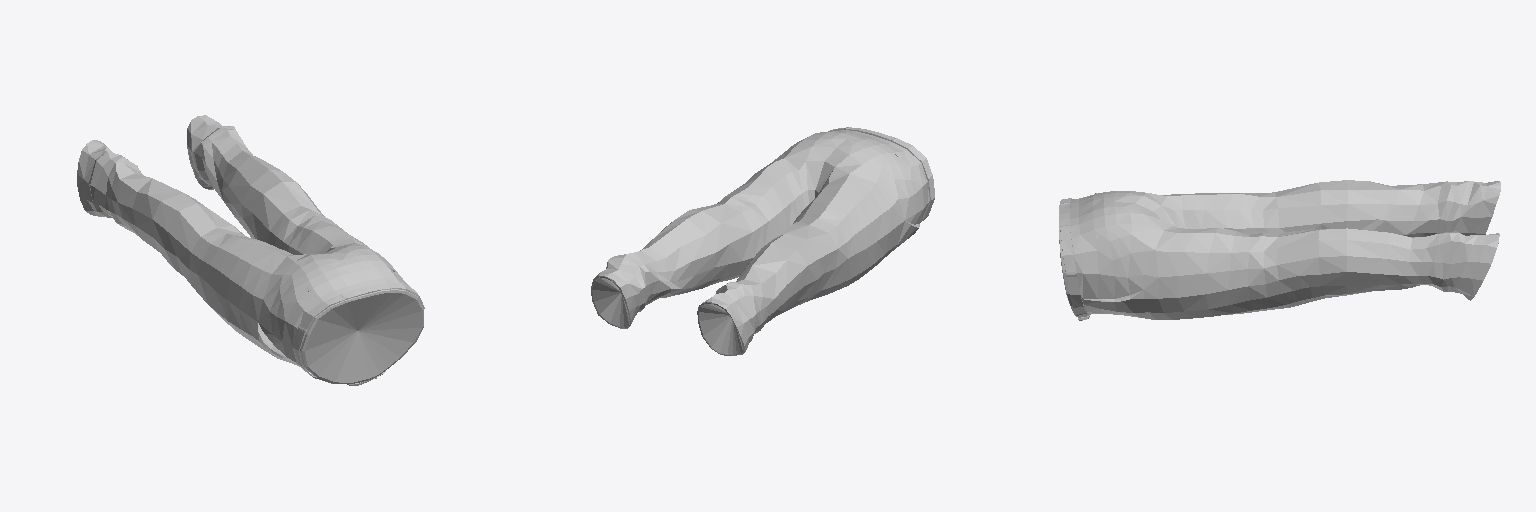
The model's file is lowr_000_u_0.obj.
3 views of the same model, side by side, from view 1: azimuth 30°, elevation 25°; view 2: azimuth 150°, elevation 25°; view 3: azimuth 270°, elevation 25° (orthographic).
Bounding box in the file's own units: 0.4238 × 0.3003 × 1.07.